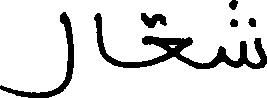X: (0, 7, 74, 97), (219, 0, 266, 73), (144, 8, 192, 71), (95, 8, 105, 64)
